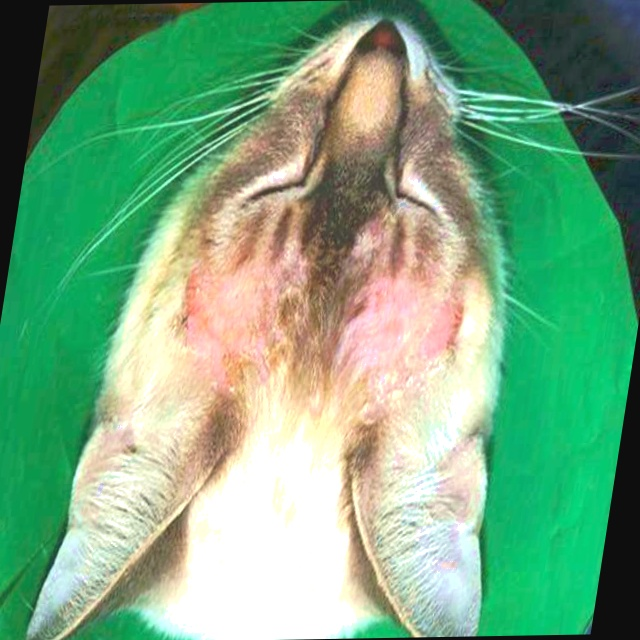ringworm: (344, 274, 469, 379), (170, 259, 282, 359)
